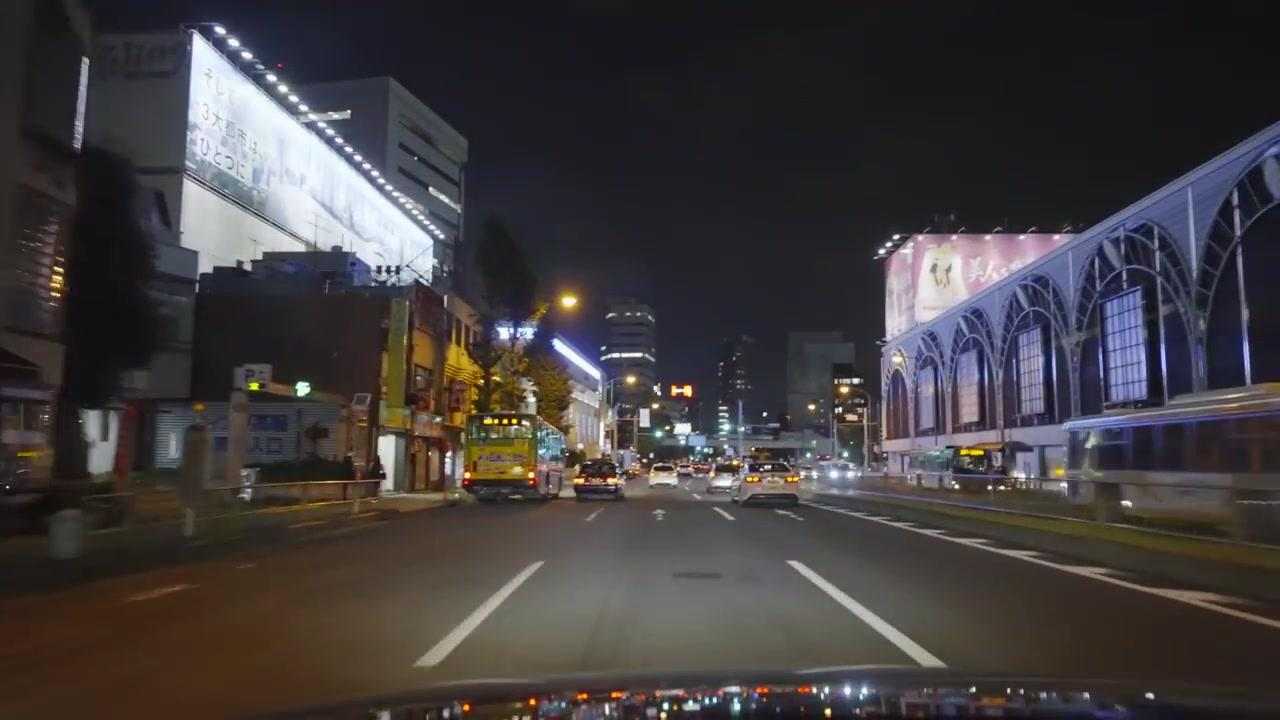bus: (461, 413, 566, 501), (0, 383, 56, 516)
car: (731, 459, 800, 505), (573, 458, 626, 501), (815, 459, 856, 488), (705, 469, 740, 497), (648, 467, 678, 486)
train: (1058, 383, 1278, 546)
